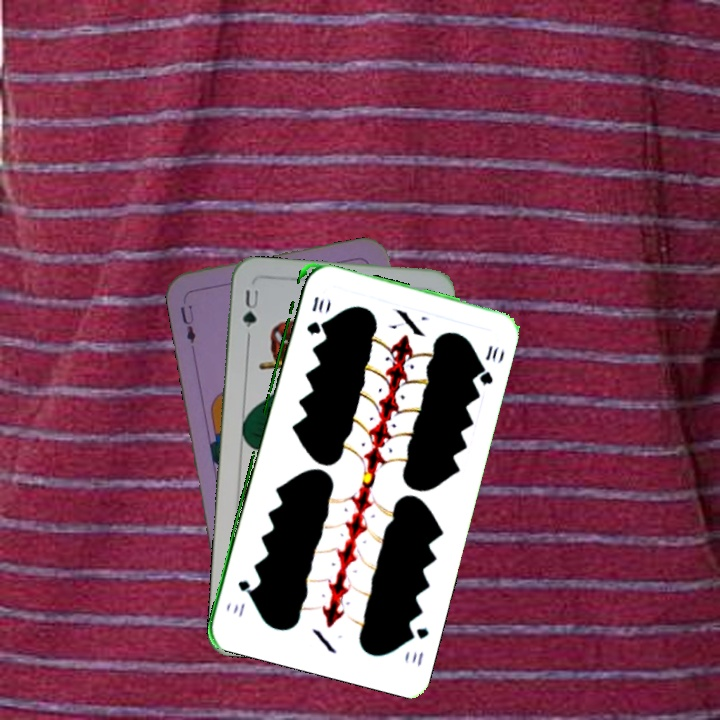EU: (176, 301, 199, 346)
G10: (403, 622, 431, 669), (302, 292, 326, 337)
GU: (238, 285, 261, 330)
